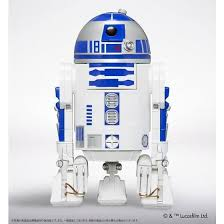r2d2: (49, 8, 174, 210)
